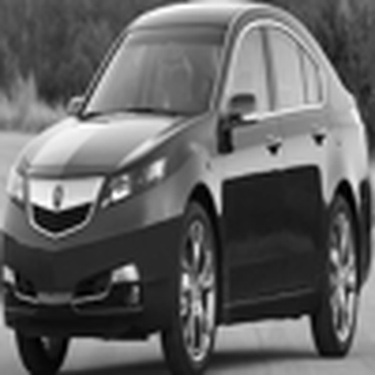car: (5, 3, 374, 373)
